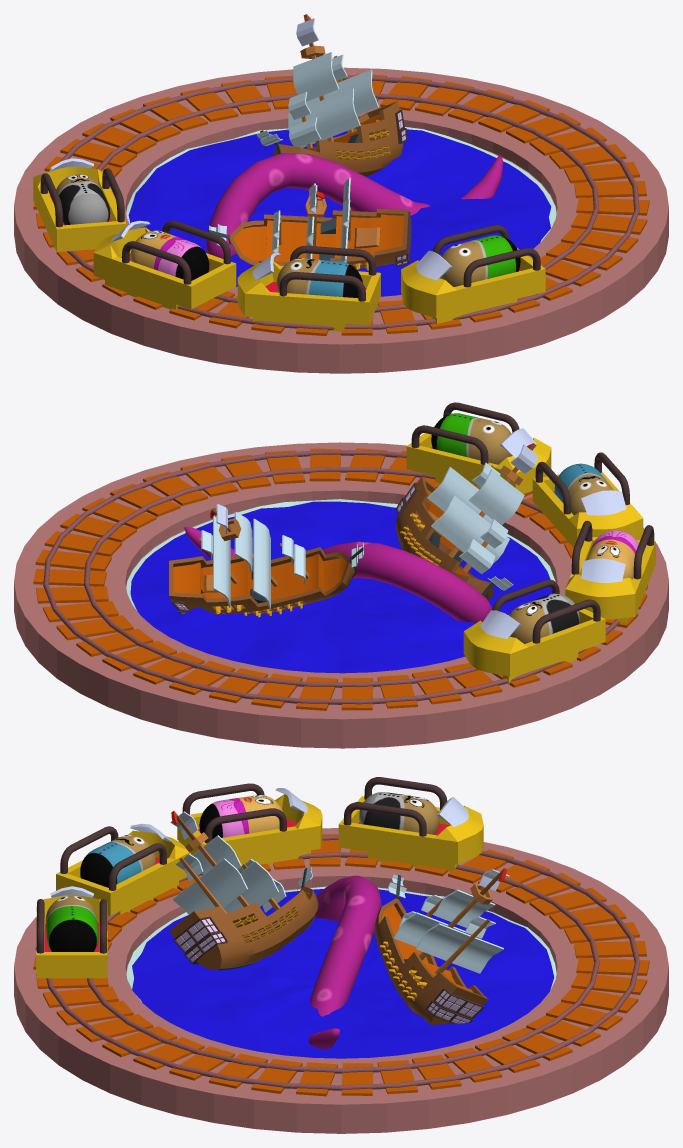
File: FastTrainTest2.fbx
3 views of the same model, one above another, from view 1: azimuth 30°, elevation 25°; view 2: azimuth 150°, elevation 25°; view 3: azimuth 270°, elevation 25° (orthographic).
Visible parts, largest first — view 1: BezierCircle.002, Cube.002, BezierCircle.003, Cube.003, Circle.001, Cube.008, Cylinder.002, Vagon3, Vagon4, Vagon2, Vagon1, Man6 (+3 smaller); view 2: BezierCircle.002, BezierCircle.003, Cube.002, Cube.003, Cube.008, Circle.001, Vagon1, Cylinder.002, Vagon2, Vagon4, Vagon3, Man6 (+3 smaller); view 3: BezierCircle.002, BezierCircle.003, Cube.002, Cube.008, Cube.003, Circle.001, Vagon1, Cylinder.002, Vagon2, Vagon3, Vagon4, Man6 (+3 smaller).
Boxes of the visible parts, <box> form: BezierCircle.002: <box>14,67,668,373</box>; Cube.002: <box>33,73,649,335</box>; BezierCircle.003: <box>126,127,556,296</box>; Cube.003: <box>256,14,407,176</box>; Circle.001: <box>59,75,639,330</box>; Cube.008: <box>208,177,411,270</box>; Cylinder.002: <box>206,153,503,258</box>; Vagon3: <box>237,245,380,331</box>; Vagon4: <box>401,225,545,323</box>; Vagon2: <box>93,220,236,309</box>; Vagon1: <box>33,158,126,252</box>; Man6: <box>440,235,520,286</box>; BezierCircle.002: <box>14,442,668,748</box>; BezierCircle.003: <box>126,499,555,673</box>; Cube.002: <box>33,448,647,710</box>; Cube.003: <box>169,503,363,617</box>; Cube.008: <box>395,443,538,599</box>; Circle.001: <box>43,450,619,704</box>; Vagon1: <box>463,579,605,684</box>; Cylinder.002: <box>184,527,492,622</box>; Vagon2: <box>565,520,655,623</box>; Vagon4: <box>406,402,551,493</box>; Vagon3: <box>532,452,643,547</box>; Man6: <box>431,413,512,464</box>; BezierCircle.002: <box>14,828,668,1133</box>; BezierCircle.003: <box>126,886,556,1058</box>; Cube.002: <box>33,834,649,1096</box>; Cube.008: <box>169,811,318,970</box>; Cube.003: <box>374,868,509,1025</box>; Circle.001: <box>46,835,640,1090</box>; Vagon1: <box>338,777,483,871</box>; Cylinder.002: <box>308,875,381,1049</box>; Vagon2: <box>177,783,322,869</box>; Vagon3: <box>56,823,190,915</box>; Vagon4: <box>36,886,107,978</box>; Man6: <box>45,895,98,951</box>.
Size of the model in its own units: 752 by 218 by 752.
